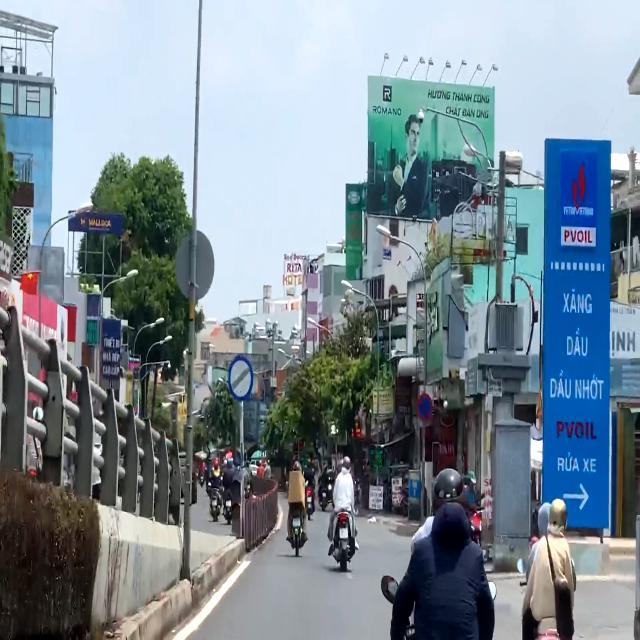DP.135: (228, 354, 254, 402)
P.131a: (416, 392, 433, 422)
